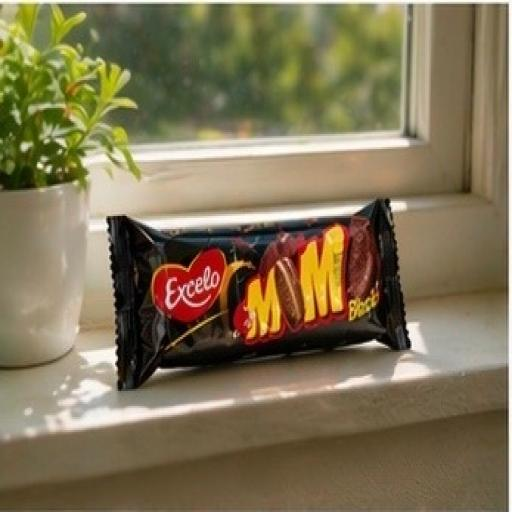MOMO: (78, 156, 449, 423)
